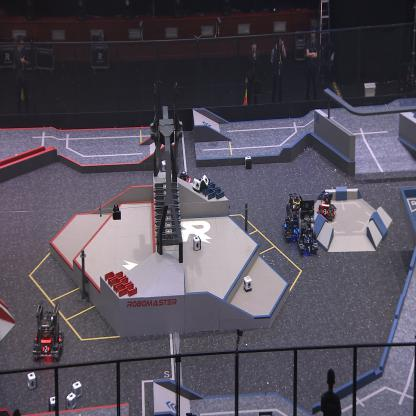car: (32, 300, 64, 362), (295, 200, 319, 256), (281, 192, 305, 242), (316, 190, 336, 220), (177, 170, 195, 198)
